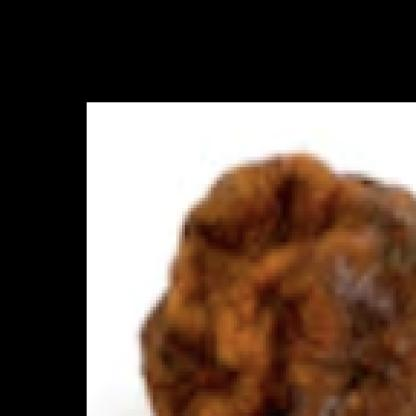rotten: (142, 151, 416, 416)
